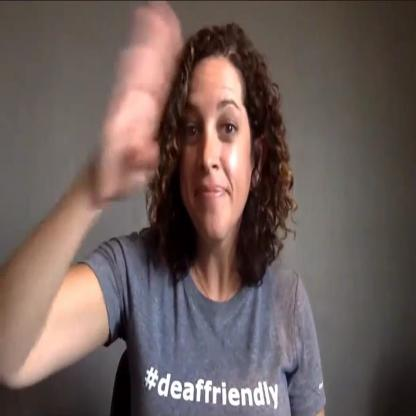Hello: (68, 0, 297, 282)
